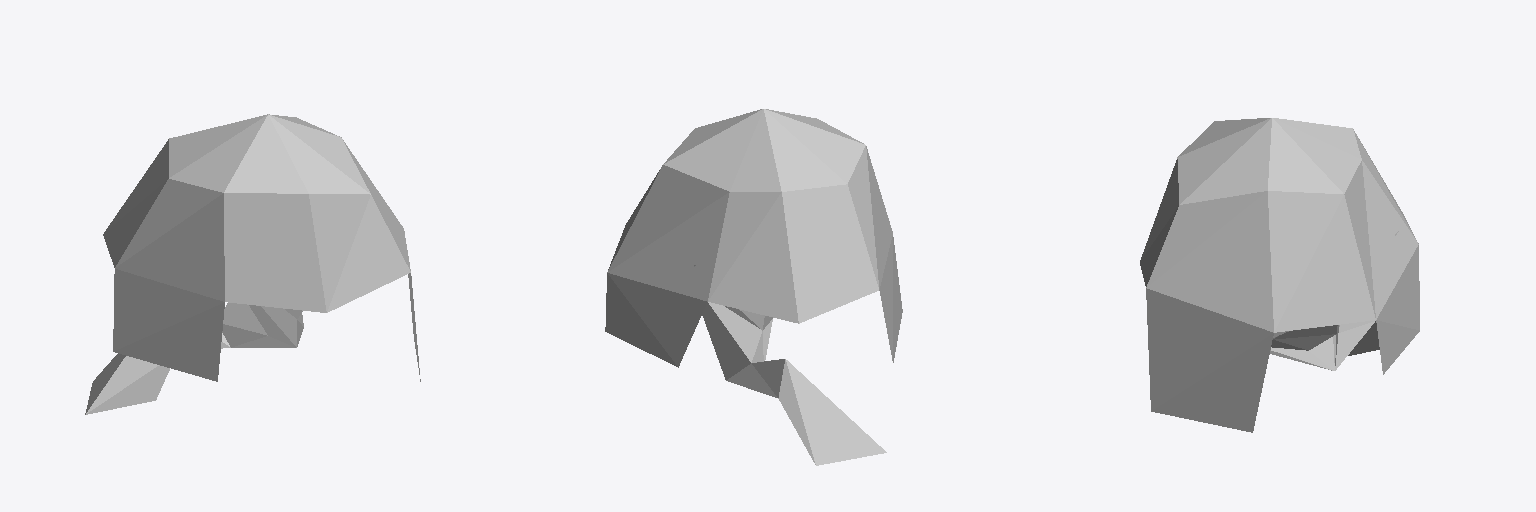
The model's file is tree2.obj.
The picture shows the model from 3 angles: view 1: azimuth 30°, elevation 25°; view 2: azimuth 150°, elevation 25°; view 3: azimuth 270°, elevation 25°; orthographic projection.
Visible parts, largest first — view 1: obj_tex_129, obj_tex_136, obj_tex_137; view 2: obj_tex_129, obj_tex_136, obj_tex_137; view 3: obj_tex_129, obj_tex_136.
Part boxes in pixels (x1,y1,x2,y2): obj_tex_129: (103, 114, 410, 312); obj_tex_136: (85, 269, 420, 414); obj_tex_137: (223, 303, 267, 335); obj_tex_129: (607, 109, 892, 323); obj_tex_136: (605, 236, 902, 465); obj_tex_137: (702, 302, 761, 379); obj_tex_129: (1140, 118, 1418, 332); obj_tex_136: (1146, 231, 1419, 432).
Size of the model in its own units: 1.42 by 1.34 by 1.19.